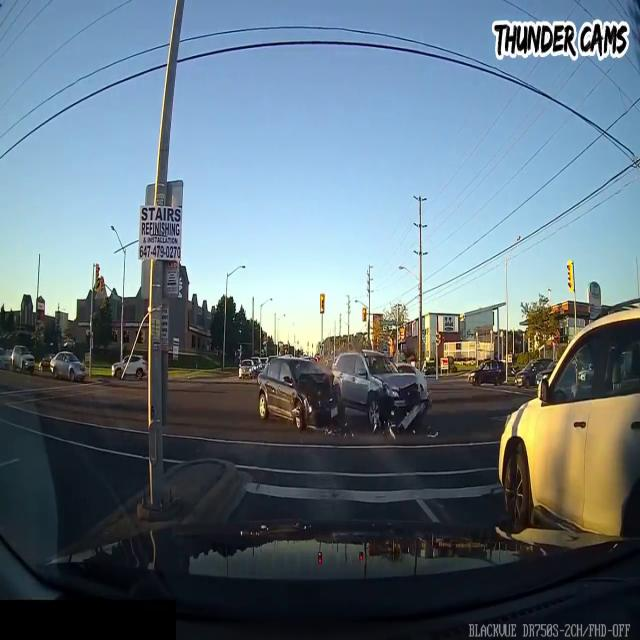accident: (254, 334, 434, 452)
